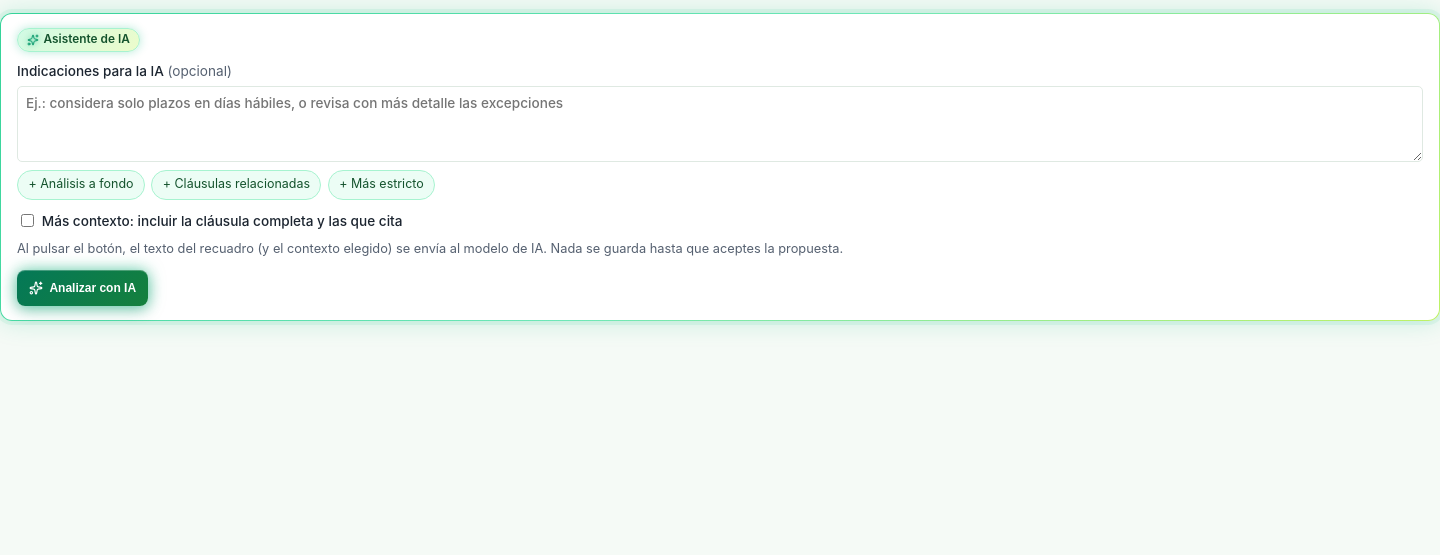
AiAssistant › descartar la propuesta no guarda y un error se muestra en lenguaje claro
Click the button "Analizar con IA": (83, 288) 17,270 -> 148,306
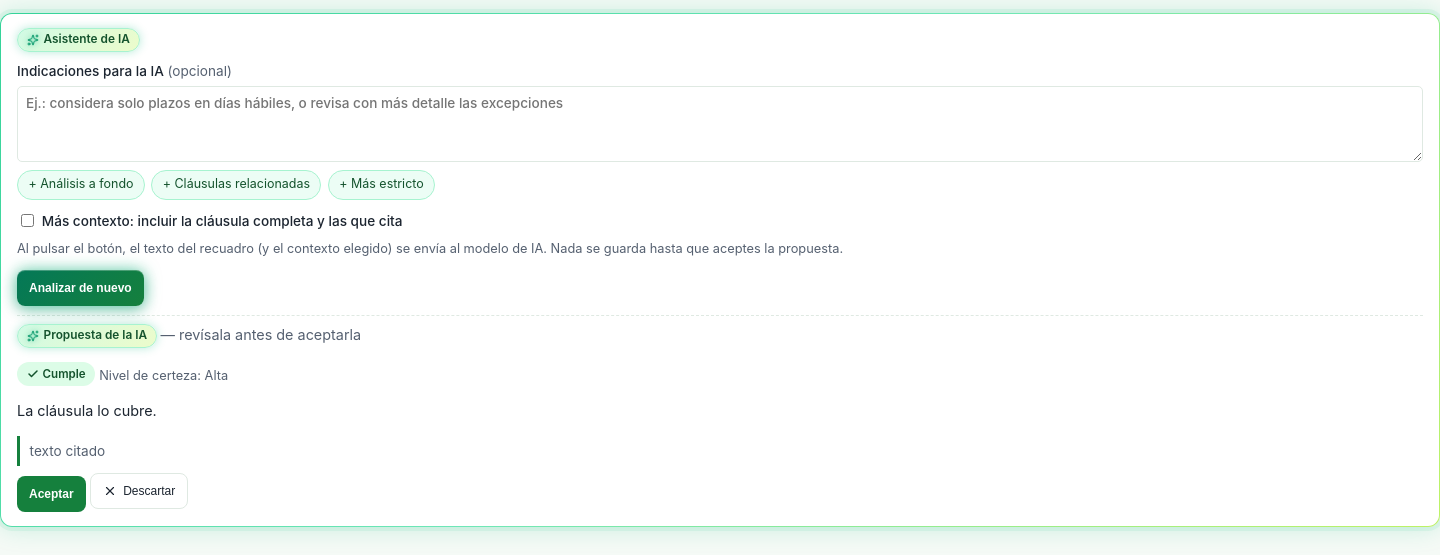
Click the button "Descartar": (139, 491) 90,473 -> 188,509
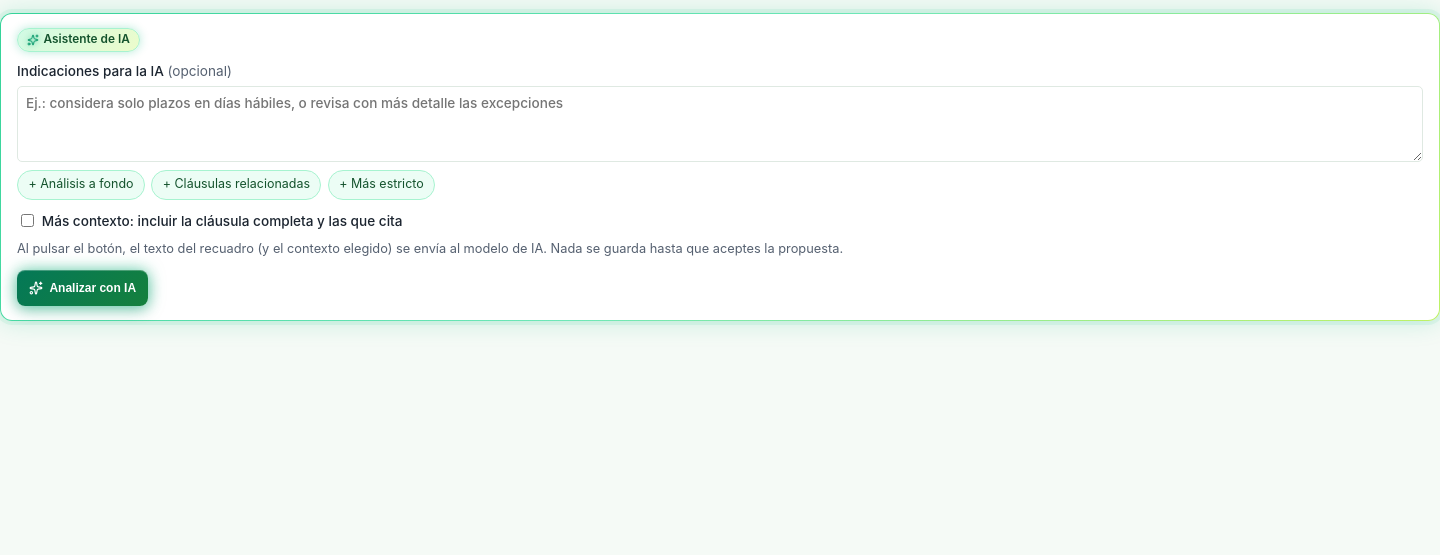
Now the text "La cláusula lo cubre." is gone
Click the button "Analizar con IA": (83, 288) 17,270 -> 148,306
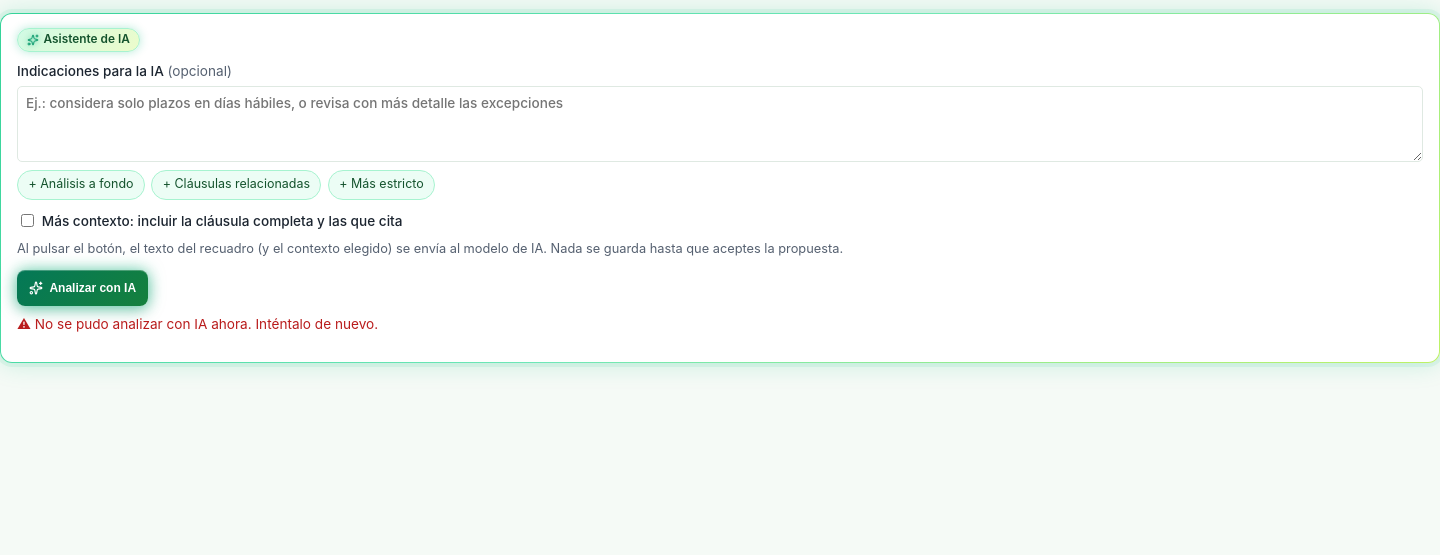
Now the message shows "No se pudo analizar con IA ahora", box 35,316 -> 378,332
